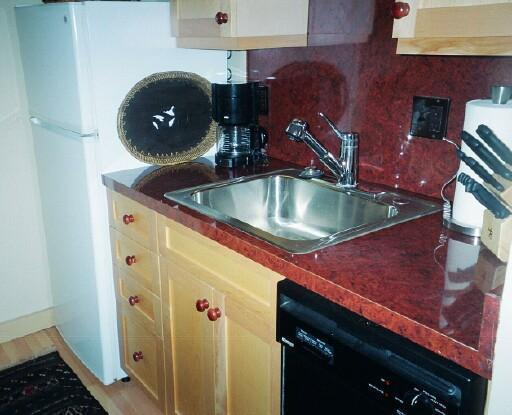Electrodomestico: (275, 271, 485, 414)
Lavaplatos: (138, 105, 440, 262)
